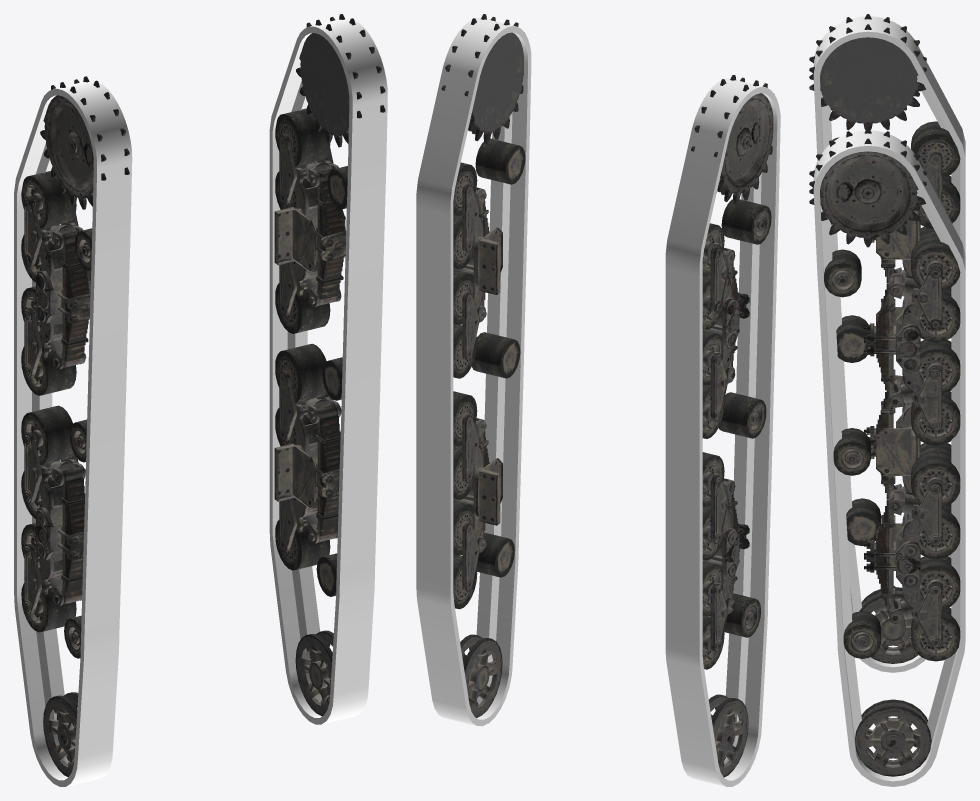
Rendered from Chassis.glb.
3 renders of one model, left to right at view 1: azimuth 30°, elevation 25°; view 2: azimuth 150°, elevation 25°; view 3: azimuth 270°, elevation 25°, orthographic. The views are drawn at different scales.
Parts seen in each view (by area): view 1: set_0_group_0, set_1_group_0, set_3_group_0, set_2_group_0; view 2: set_0_group_0, set_1_group_0, set_3_group_0, set_2_group_0; view 3: set_3_group_0, set_2_group_0, set_1_group_0, set_0_group_0.
Boxes of the visible parts, x1,y1,x2,y2 form: set_0_group_0: (14,80,132,786); set_1_group_0: (269,18,387,724); set_3_group_0: (274,14,385,716); set_2_group_0: (21,76,129,777); set_0_group_0: (665,78,780,786); set_1_group_0: (416,17,531,726); set_3_group_0: (441,14,525,717); set_2_group_0: (691,75,773,777); set_3_group_0: (809,128,960,776); set_2_group_0: (809,14,960,663); set_1_group_0: (813,130,965,786); set_0_group_0: (813,16,965,672).
Bounding box in the file's own units: 2.21 × 5 × 1.1.
Materials: 4 (2 with a texture image).
